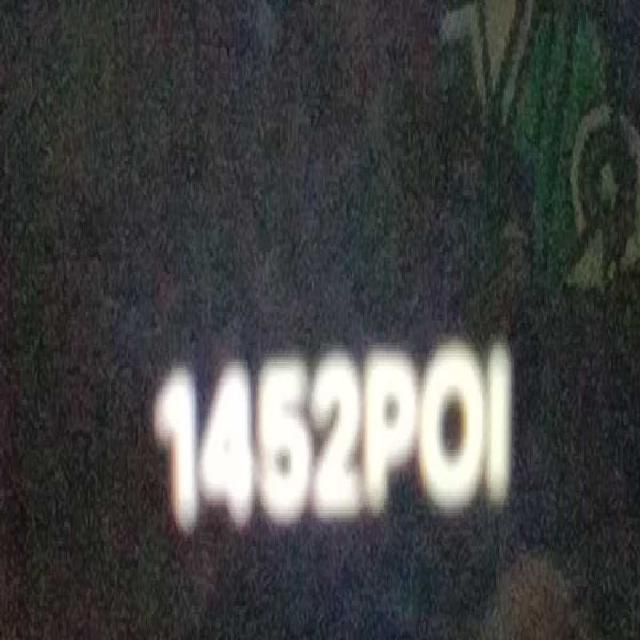license_plate: (146, 325, 524, 536), (363, 335, 417, 526)
